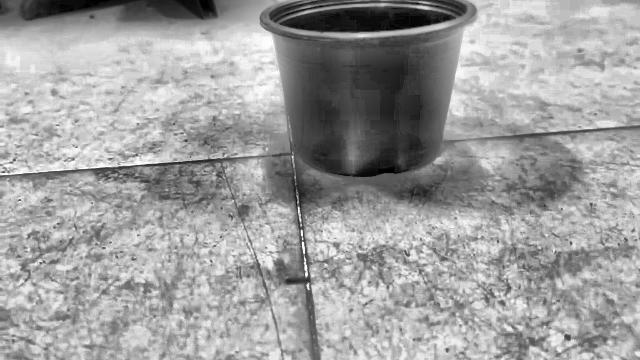pot: (259, 0, 476, 176)
